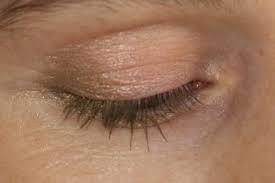Drowsy: (1, 0, 274, 183)
